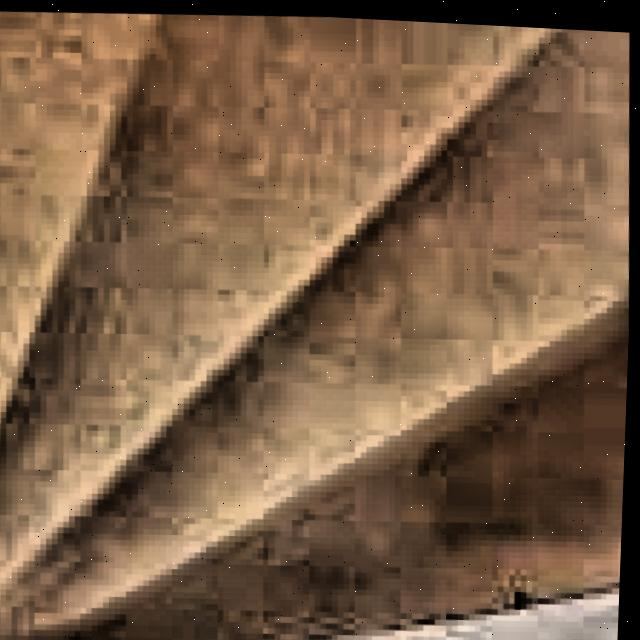paper: (0, 11, 631, 640)
